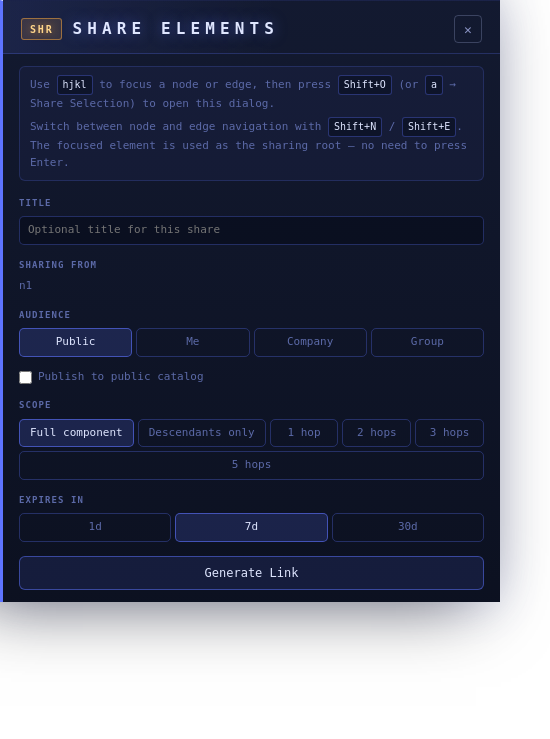
ElementShareDialog – generate flow › shows generated link after success
This screenshot has width=550, height=739.
Click the button with test id "generate-btn". click: (252, 573)
box: top-left (19, 556), bottom-right (484, 590)
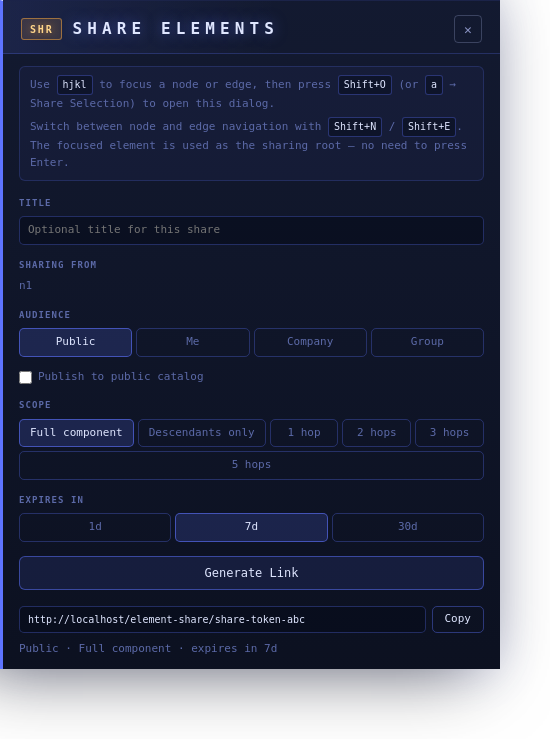
Expected: the field with class "share-link-input" is shown, top-left (19, 606), bottom-right (426, 633)
